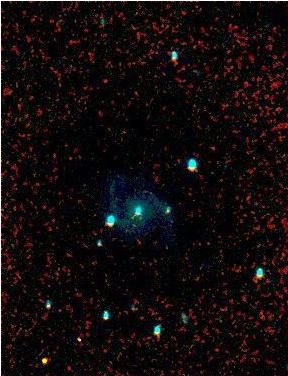star: (28, 345, 58, 375)
